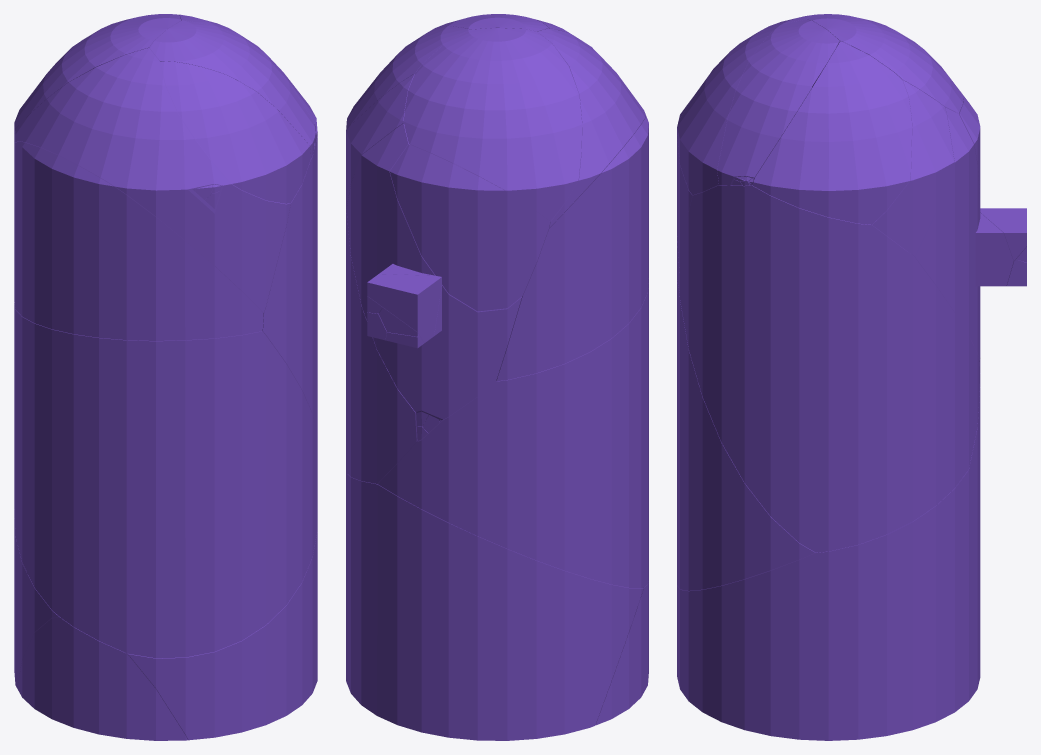
The model's file is Conehead_broken.fbx.
3 views of the same model, side by side, from view 1: azimuth 30°, elevation 25°; view 2: azimuth 150°, elevation 25°; view 3: azimuth 270°, elevation 25° (orthographic).
Parts seen in each view (by area): view 1: Cylinder_cell.053, Cylinder_cell.057, Cylinder_cell.019, Cylinder_cell.054, Cylinder_cell.023, Cylinder_cell.008, Cylinder_cell.028, Cylinder_cell.036, Cylinder_cell.006, Cylinder_cell.051; view 2: Cylinder_cell.054, Cylinder_cell.053, Cylinder_cell.006, Cylinder_cell.057, Cylinder_cell.021, Cylinder_cell.032, Cylinder_cell.028, Cylinder_cell.019, Cylinder_cell.024, Cylinder_cell.023, Cylinder_cell.026, Cylinder_cell.051 (+3 smaller); view 3: Cylinder_cell.028, Cylinder_cell.054, Cylinder_cell.051, Cylinder_cell.053, Cylinder_cell.036, Cylinder_cell.021, Cylinder_cell.026, Cylinder_cell.008, Cylinder_cell.006, Cylinder_cell.040, Cylinder_cell.024, Cylinder_cell.019 (+1 smaller).
Boxes of the visible parts, left/top/right/bottom form: Cylinder_cell.053: left=14, top=302, right=317, bottom=658; Cylinder_cell.057: left=14, top=141, right=263, bottom=340; Cylinder_cell.019: left=14, top=48, right=290, bottom=312; Cylinder_cell.054: left=14, top=509, right=317, bottom=740; Cylinder_cell.023: left=17, top=617, right=187, bottom=740; Cylinder_cell.008: left=160, top=61, right=311, bottom=203; Cylinder_cell.028: left=262, top=136, right=317, bottom=433; Cylinder_cell.036: left=149, top=20, right=315, bottom=157; Cylinder_cell.006: left=14, top=14, right=180, bottom=140; Cylinder_cell.051: left=179, top=14, right=316, bottom=125; Cylinder_cell.054: left=346, top=473, right=643, bottom=740; Cylinder_cell.053: left=377, top=278, right=648, bottom=588; Cylinder_cell.006: left=403, top=28, right=582, bottom=221; Cylinder_cell.057: left=496, top=116, right=648, bottom=381; Cylinder_cell.021: left=346, top=123, right=521, bottom=420; Cylinder_cell.032: left=389, top=144, right=550, bottom=311; Cylinder_cell.028: left=346, top=207, right=425, bottom=483; Cylinder_cell.019: left=537, top=28, right=645, bottom=228; Cylinder_cell.024: left=367, top=274, right=441, bottom=342; Cylinder_cell.023: left=595, top=580, right=648, bottom=725; Cylinder_cell.026: left=346, top=73, right=414, bottom=208; Cylinder_cell.051: left=346, top=26, right=469, bottom=128; Cylinder_cell.028: left=679, top=185, right=979, bottom=552; Cylinder_cell.054: left=677, top=455, right=980, bottom=740; Cylinder_cell.051: left=751, top=41, right=912, bottom=224; Cylinder_cell.053: left=677, top=280, right=980, bottom=590; Cylinder_cell.036: left=717, top=19, right=839, bottom=185; Cylinder_cell.021: left=911, top=107, right=980, bottom=360; Cylinder_cell.026: left=872, top=80, right=954, bottom=256; Cylinder_cell.008: left=677, top=24, right=782, bottom=194; Cylinder_cell.006: left=807, top=14, right=963, bottom=113; Cylinder_cell.040: left=975, top=213, right=1013, bottom=286; Cylinder_cell.024: left=980, top=208, right=1026, bottom=260; Cylinder_cell.019: left=677, top=15, right=812, bottom=274.
Size of the model in its own units: 206 by 485 by 237.
